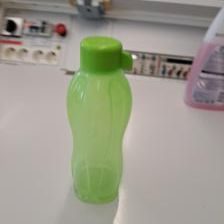bottle: (64, 31, 136, 202)
